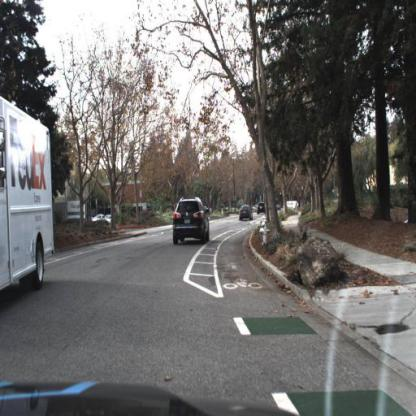car: (172, 197, 212, 250), (239, 203, 254, 223), (90, 214, 109, 226), (257, 202, 266, 215)
